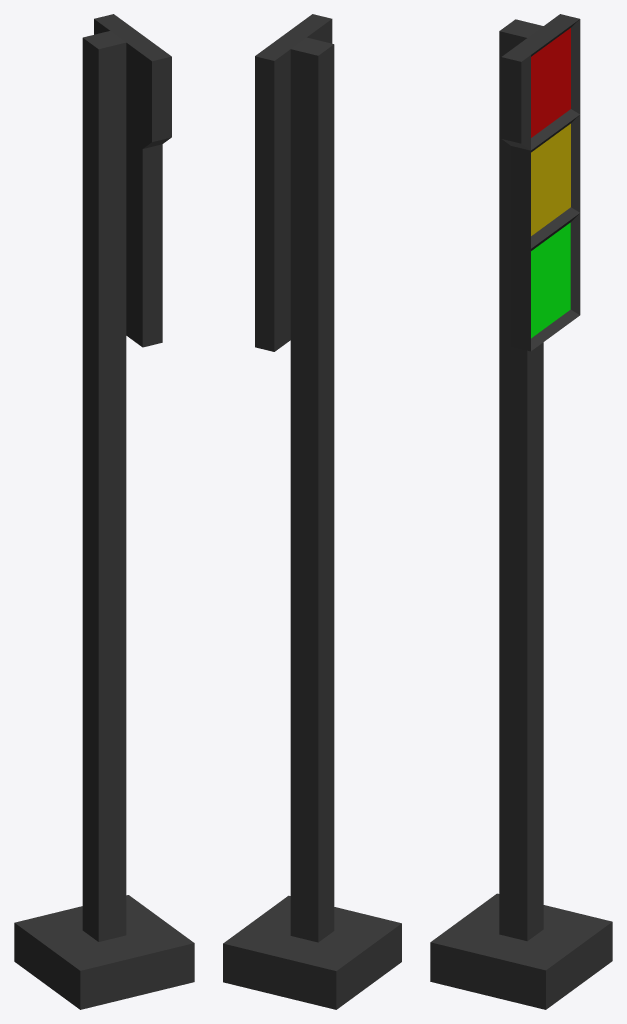
The model's file is Robot.fbx.
The picture shows the model from 3 angles, left to right: view 1: azimuth 30°, elevation 25°; view 2: azimuth 150°, elevation 25°; view 3: azimuth 330°, elevation 25°; orthographic projection.
Visible parts, largest first — view 1: Cube (×2); view 2: Cube (×2); view 3: Cube (×5).
Boxes of the visible parts, x1,y1,x2,y2 form: Cube (×2): (14,14,194,1009); Cube (×2): (223,14,401,1009); Cube (×5): (430,14,612,1009).
Size of the model in its own units: 200 by 1560 by 202.
